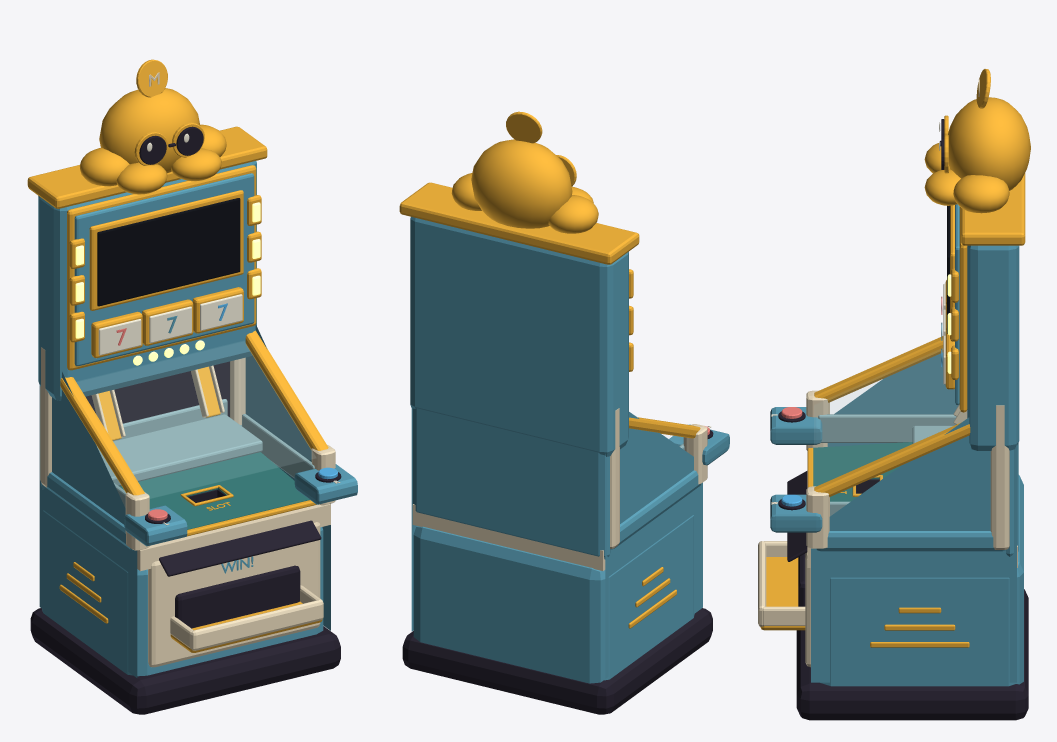
File: cabinet_blue.glb
The picture shows the model from 3 angles, left to right: view 1: azimuth 30°, elevation 25°; view 2: azimuth 150°, elevation 25°; view 3: azimuth 270°, elevation 25°; orthographic projection. The views are drawn at different scales.
Parts seen in each view (by area): view 1: Base_Plinth, Base_LowerBody, Display_BlankBlack, Header_Shell, Side_ProfilePanel, Header_RedInset, Front_CreamFascia, PusherPlate_MOVING, Front_Payout_Recess, Mascot_BlobBody, FixedField_Right, Header_TopTrim (+39 smaller); view 2: Header_Shell, Base_LowerBody, Back_Shell, Base_Plinth, Side_ProfilePanel, Mascot_BlobBody, Header_TopTrim, Side_Lower_Rail, Mascot_BlobFoot, Side_Pillar_Rear, Bay_Floor_Left, Bay_Floor_Right (+6 smaller); view 3: Base_LowerBody, Side_ProfilePanel.001, Header_Shell, Base_Plinth, Mascot_BlobBody, Side_ProfilePanel, Side_Lower_Rail.001, Field_SideFence, Header_TopTrim, Side_Upper_Rail.001, Side_Pillar_Rear.001, FixedField_Left (+17 smaller).
Part boxes in pixels (<box>): Base_Plinth: <box>30,608,340,714</box>; Base_LowerBody: <box>42,510,323,676</box>; Display_BlankBlack: <box>97,198,240,306</box>; Header_Shell: <box>38,161,256,400</box>; Side_ProfilePanel: <box>39,372,137,677</box>; Header_RedInset: <box>74,173,254,366</box>; Front_CreamFascia: <box>148,522,320,667</box>; PusherPlate_MOVING: <box>97,414,262,486</box>; Front_Payout_Recess: <box>175,565,300,628</box>; Mascot_BlobBody: <box>99,88,200,173</box>; FixedField_Right: <box>195,452,309,514</box>; Header_TopTrim: <box>27,126,267,208</box>; Header_Shell: <box>410,216,628,456</box>; Base_LowerBody: <box>413,515,694,683</box>; Back_Shell: <box>412,408,610,559</box>; Base_Plinth: <box>402,608,712,714</box>; Side_ProfilePanel: <box>605,412,702,678</box>; Mascot_BlobBody: <box>471,139,572,228</box>; Header_TopTrim: <box>399,182,639,264</box>; Side_Lower_Rail: <box>610,470,701,549</box>; Mascot_BlobFoot: <box>548,195,598,233</box>; Side_Pillar_Rear: <box>610,408,619,548</box>; Bay_Floor_Left: <box>527,539,605,570</box>; Bay_Floor_Right: <box>412,504,488,542</box>; Base_LowerBody: <box>820,475,1023,686</box>; Side_ProfilePanel.001: <box>811,417,1016,682</box>; Header_Shell: <box>967,245,1019,450</box>; Base_Plinth: <box>796,589,1028,720</box>; Mascot_BlobBody: <box>948,97,1030,190</box>; Side_ProfilePanel: <box>834,352,958,414</box>; Side_Lower_Rail.001: <box>816,531,1005,551</box>; Field_SideFence: <box>818,414,956,442</box>; Header_TopTrim: <box>961,173,1025,245</box>; Side_Upper_Rail.001: <box>814,422,970,496</box>; Side_Pillar_Rear.001: <box>990,405,1009,549</box>; FixedField_Left: <box>813,442,912,481</box>.
Bounding box in the file's own units: 1.13 × 2.8 × 1.2.
